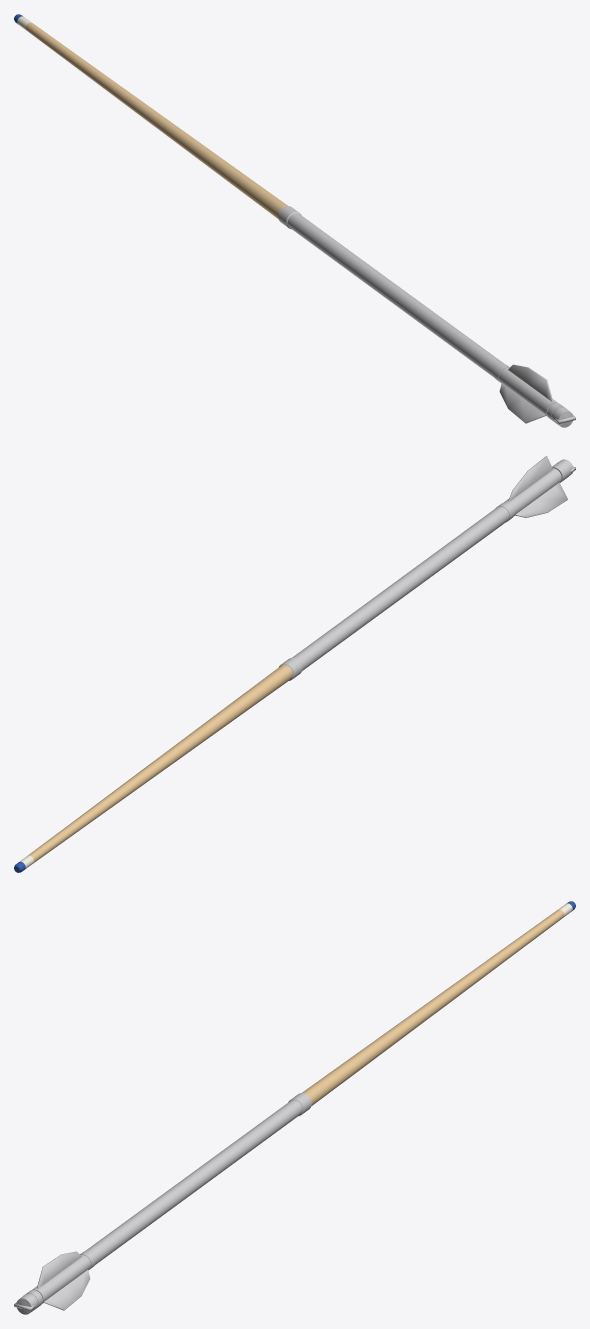
Rendered from cue_arrow.glb.
The picture shows the model from 3 angles, top to bottom: view 1: azimuth 30°, elevation 25°; view 2: azimuth 150°, elevation 25°; view 3: azimuth 330°, elevation 25°; orthographic projection.
Parts seen in each view (by area): view 1: wood, shaft, vane, thread; view 2: wood, shaft, vane, thread; view 3: wood, shaft, vane, thread.
Boxes of the visible parts, x1,y1,x2,y2 form: wood: [287, 213, 557, 416]; shaft: [25, 22, 287, 218]; vane: [499, 364, 552, 423]; thread: [278, 206, 575, 423]; wood: [292, 468, 561, 670]; shaft: [28, 665, 292, 863]; vane: [508, 456, 567, 517]; thread: [279, 464, 575, 680]; wood: [32, 1100, 302, 1303]; shaft: [302, 909, 564, 1105]; vane: [37, 1251, 90, 1310]; thread: [14, 1093, 311, 1310].
Size of the model in its own units: 0.0664 by 0.0575 by 1.48.
